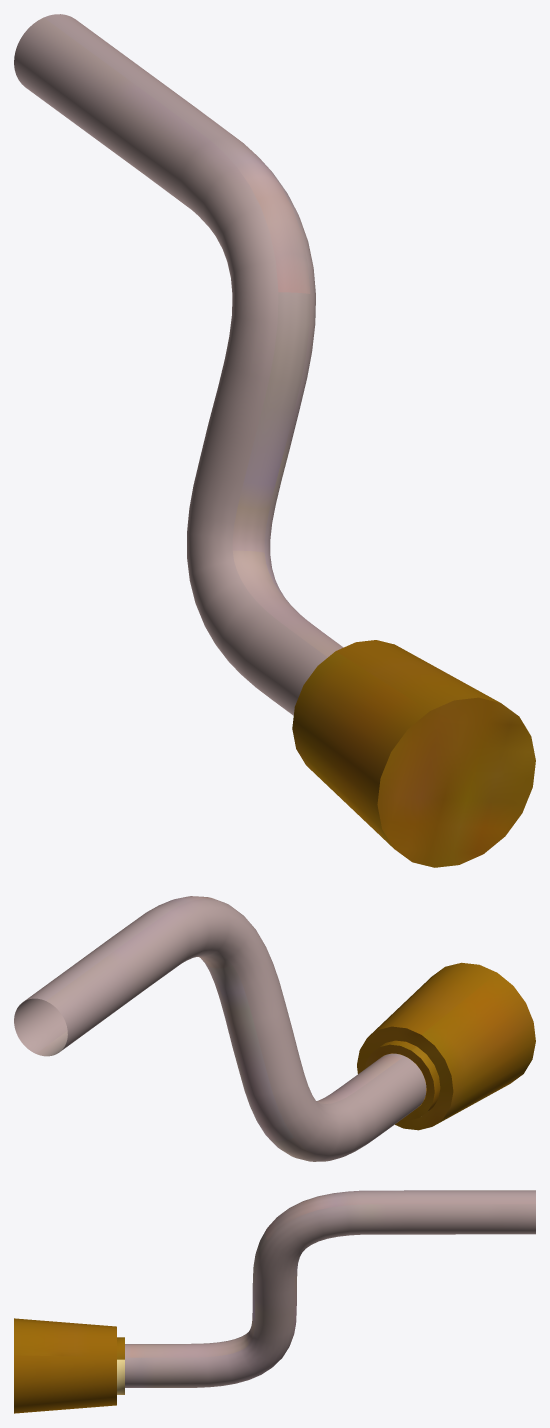
The model's file is crank.gltf.
3 views of the same model, one above another, from view 1: azimuth 30°, elevation 25°; view 2: azimuth 150°, elevation 25°; view 3: azimuth 270°, elevation 25° (orthographic). The views are drawn at different scales.
Parts seen in each view (by area): view 1: g; view 2: g; view 3: g.
Part boxes in pixels (x1,y1,x2,y2): g: [14, 14, 535, 867]; g: [14, 896, 535, 1161]; g: [14, 1190, 535, 1413].
Bounding box in the file's own units: 0.1201 × 0.2522 × 0.4954.
Materials: 1 (1 with a texture image).
